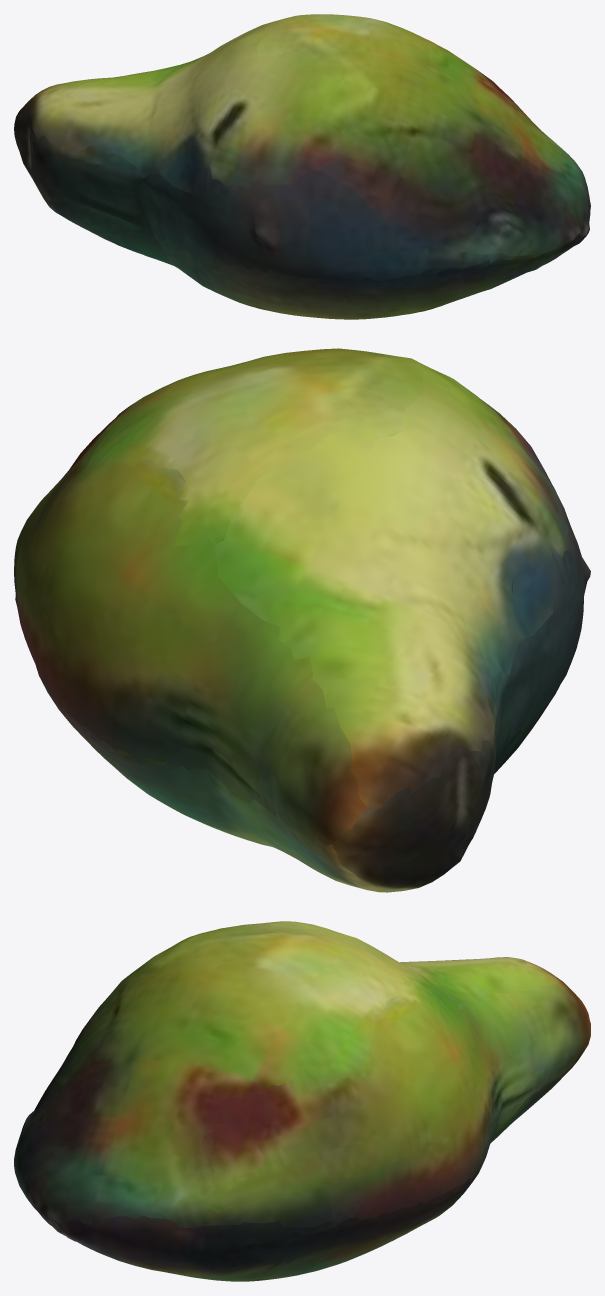
3 renders of one model, top to bottom at view 1: azimuth 30°, elevation 25°; view 2: azimuth 150°, elevation 25°; view 3: azimuth 270°, elevation 25°, orthographic. The views are drawn at different scales.
Parts seen in each view (by area): view 1: world; view 2: world; view 3: world.
Part boxes in pixels (x1,y1,x2,y2): world: (14,14,590,319); world: (14,348,590,892); world: (14,921,590,1281).
Size of the model in its own units: 0.3565 by 0.228 by 0.3885.
1 material, 1 textured.
